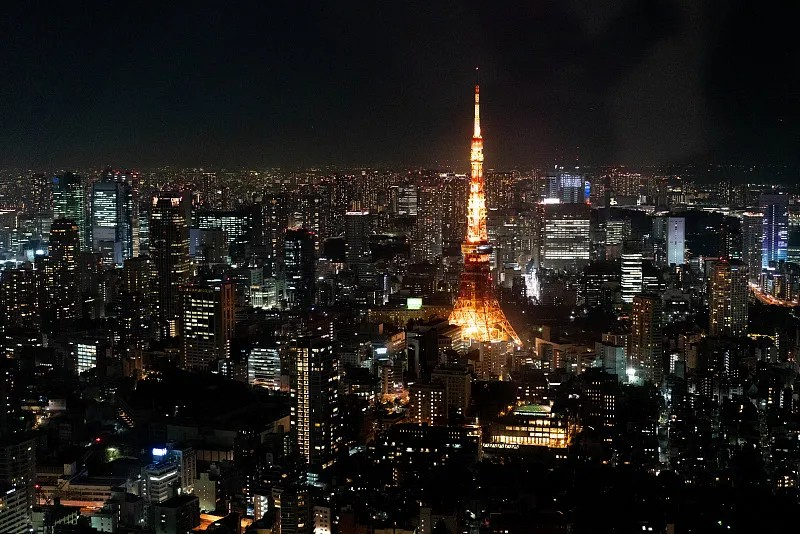Tokyo: (447, 66, 522, 349)
